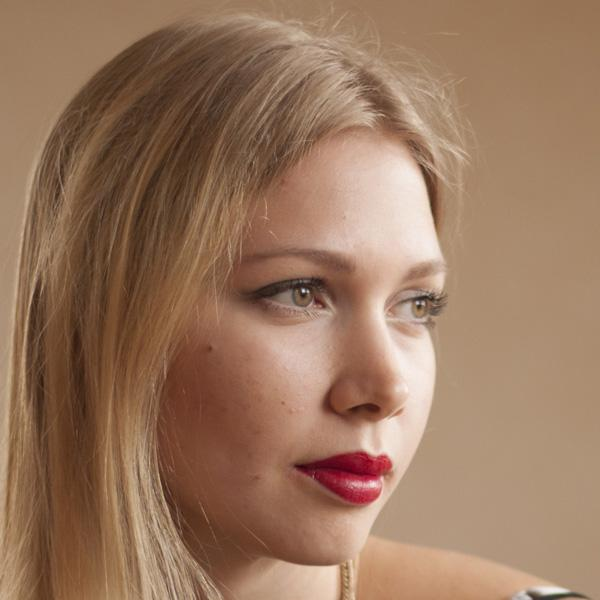Eyes: (244, 261, 337, 332), (380, 278, 439, 338)
